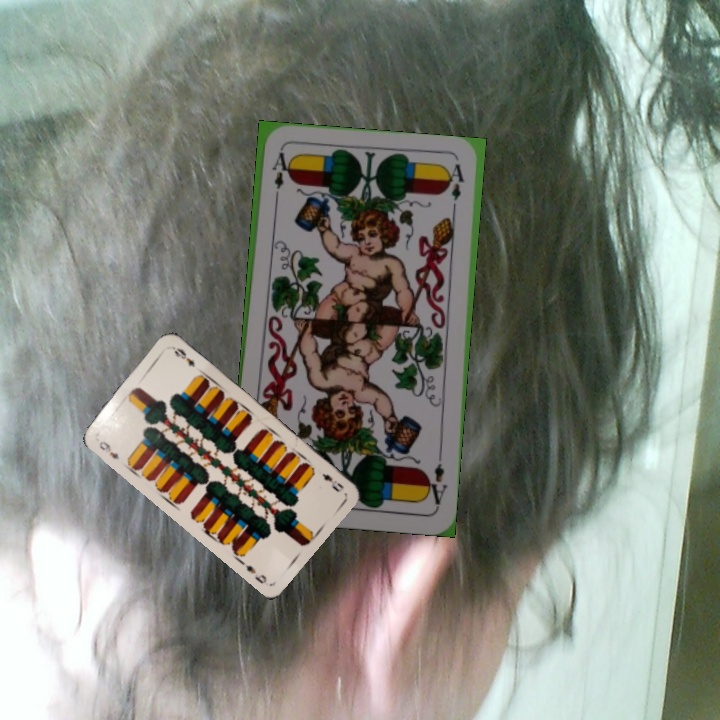E9: (318, 469, 346, 495), (95, 437, 121, 462)
EA: (422, 450, 449, 510), (268, 148, 289, 206)
